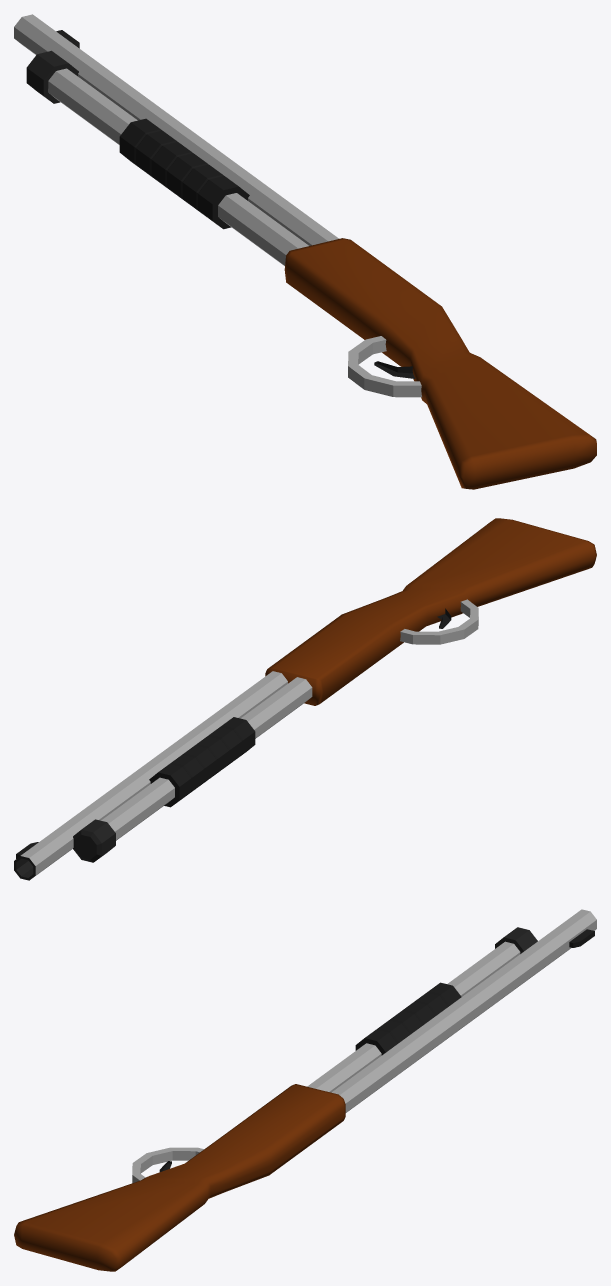
The model's file is Shotgun.fbx.
3 views of the same model, one above another, from view 1: azimuth 30°, elevation 25°; view 2: azimuth 150°, elevation 25°; view 3: azimuth 330°, elevation 25° (orthographic). The views are drawn at different scales.
Parts seen in each view (by area): view 1: Shotgun; view 2: Shotgun; view 3: Shotgun.
Boxes of the visible parts, <box> form: Shotgun: <box>14,14,596,489</box>; Shotgun: <box>14,518,596,880</box>; Shotgun: <box>14,909,596,1271</box>.
Bounding box in the file's own units: 21.93 × 5.24 × 139.
